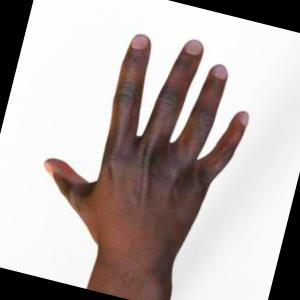paper: (44, 34, 248, 300)
